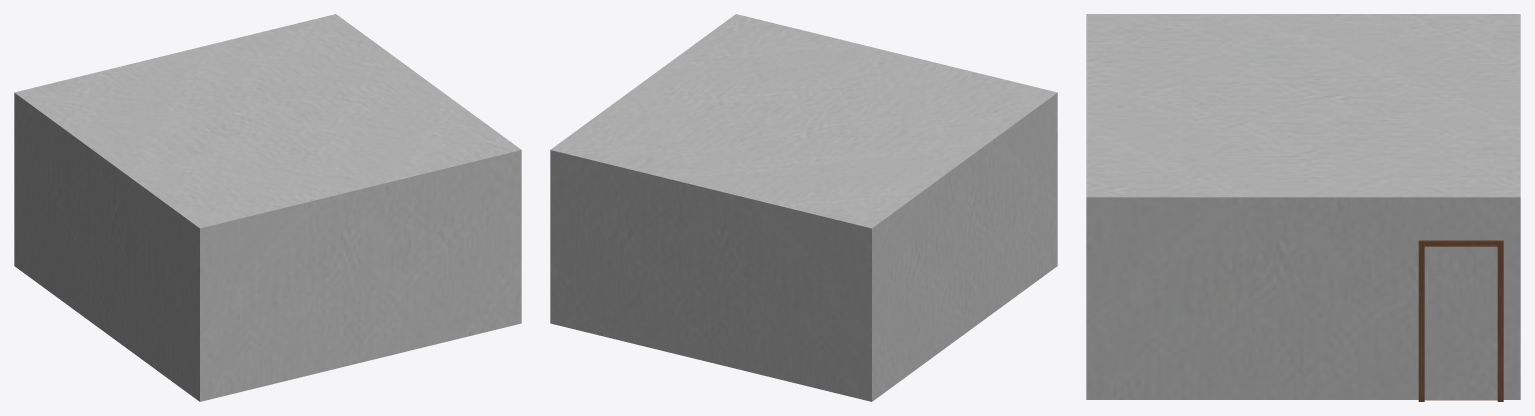
The model's file is room.glb.
3 renders of one model, left to right at view 1: azimuth 30°, elevation 25°; view 2: azimuth 150°, elevation 25°; view 3: azimuth 270°, elevation 25°, orthographic. The views are drawn at different scales.
Parts seen in each view (by area): view 1: Plane; view 2: Plane; view 3: Plane, Cube.001.
Part boxes in pixels (x1,y1,x2,y2): Plane: (14,14,521,401); Plane: (550,14,1057,401); Plane: (1086,14,1520,399); Cube.001: (1418,240,1503,401).
Bounding box in the file's own units: 348 × 180 × 347.
3 materials, 3 textured.
